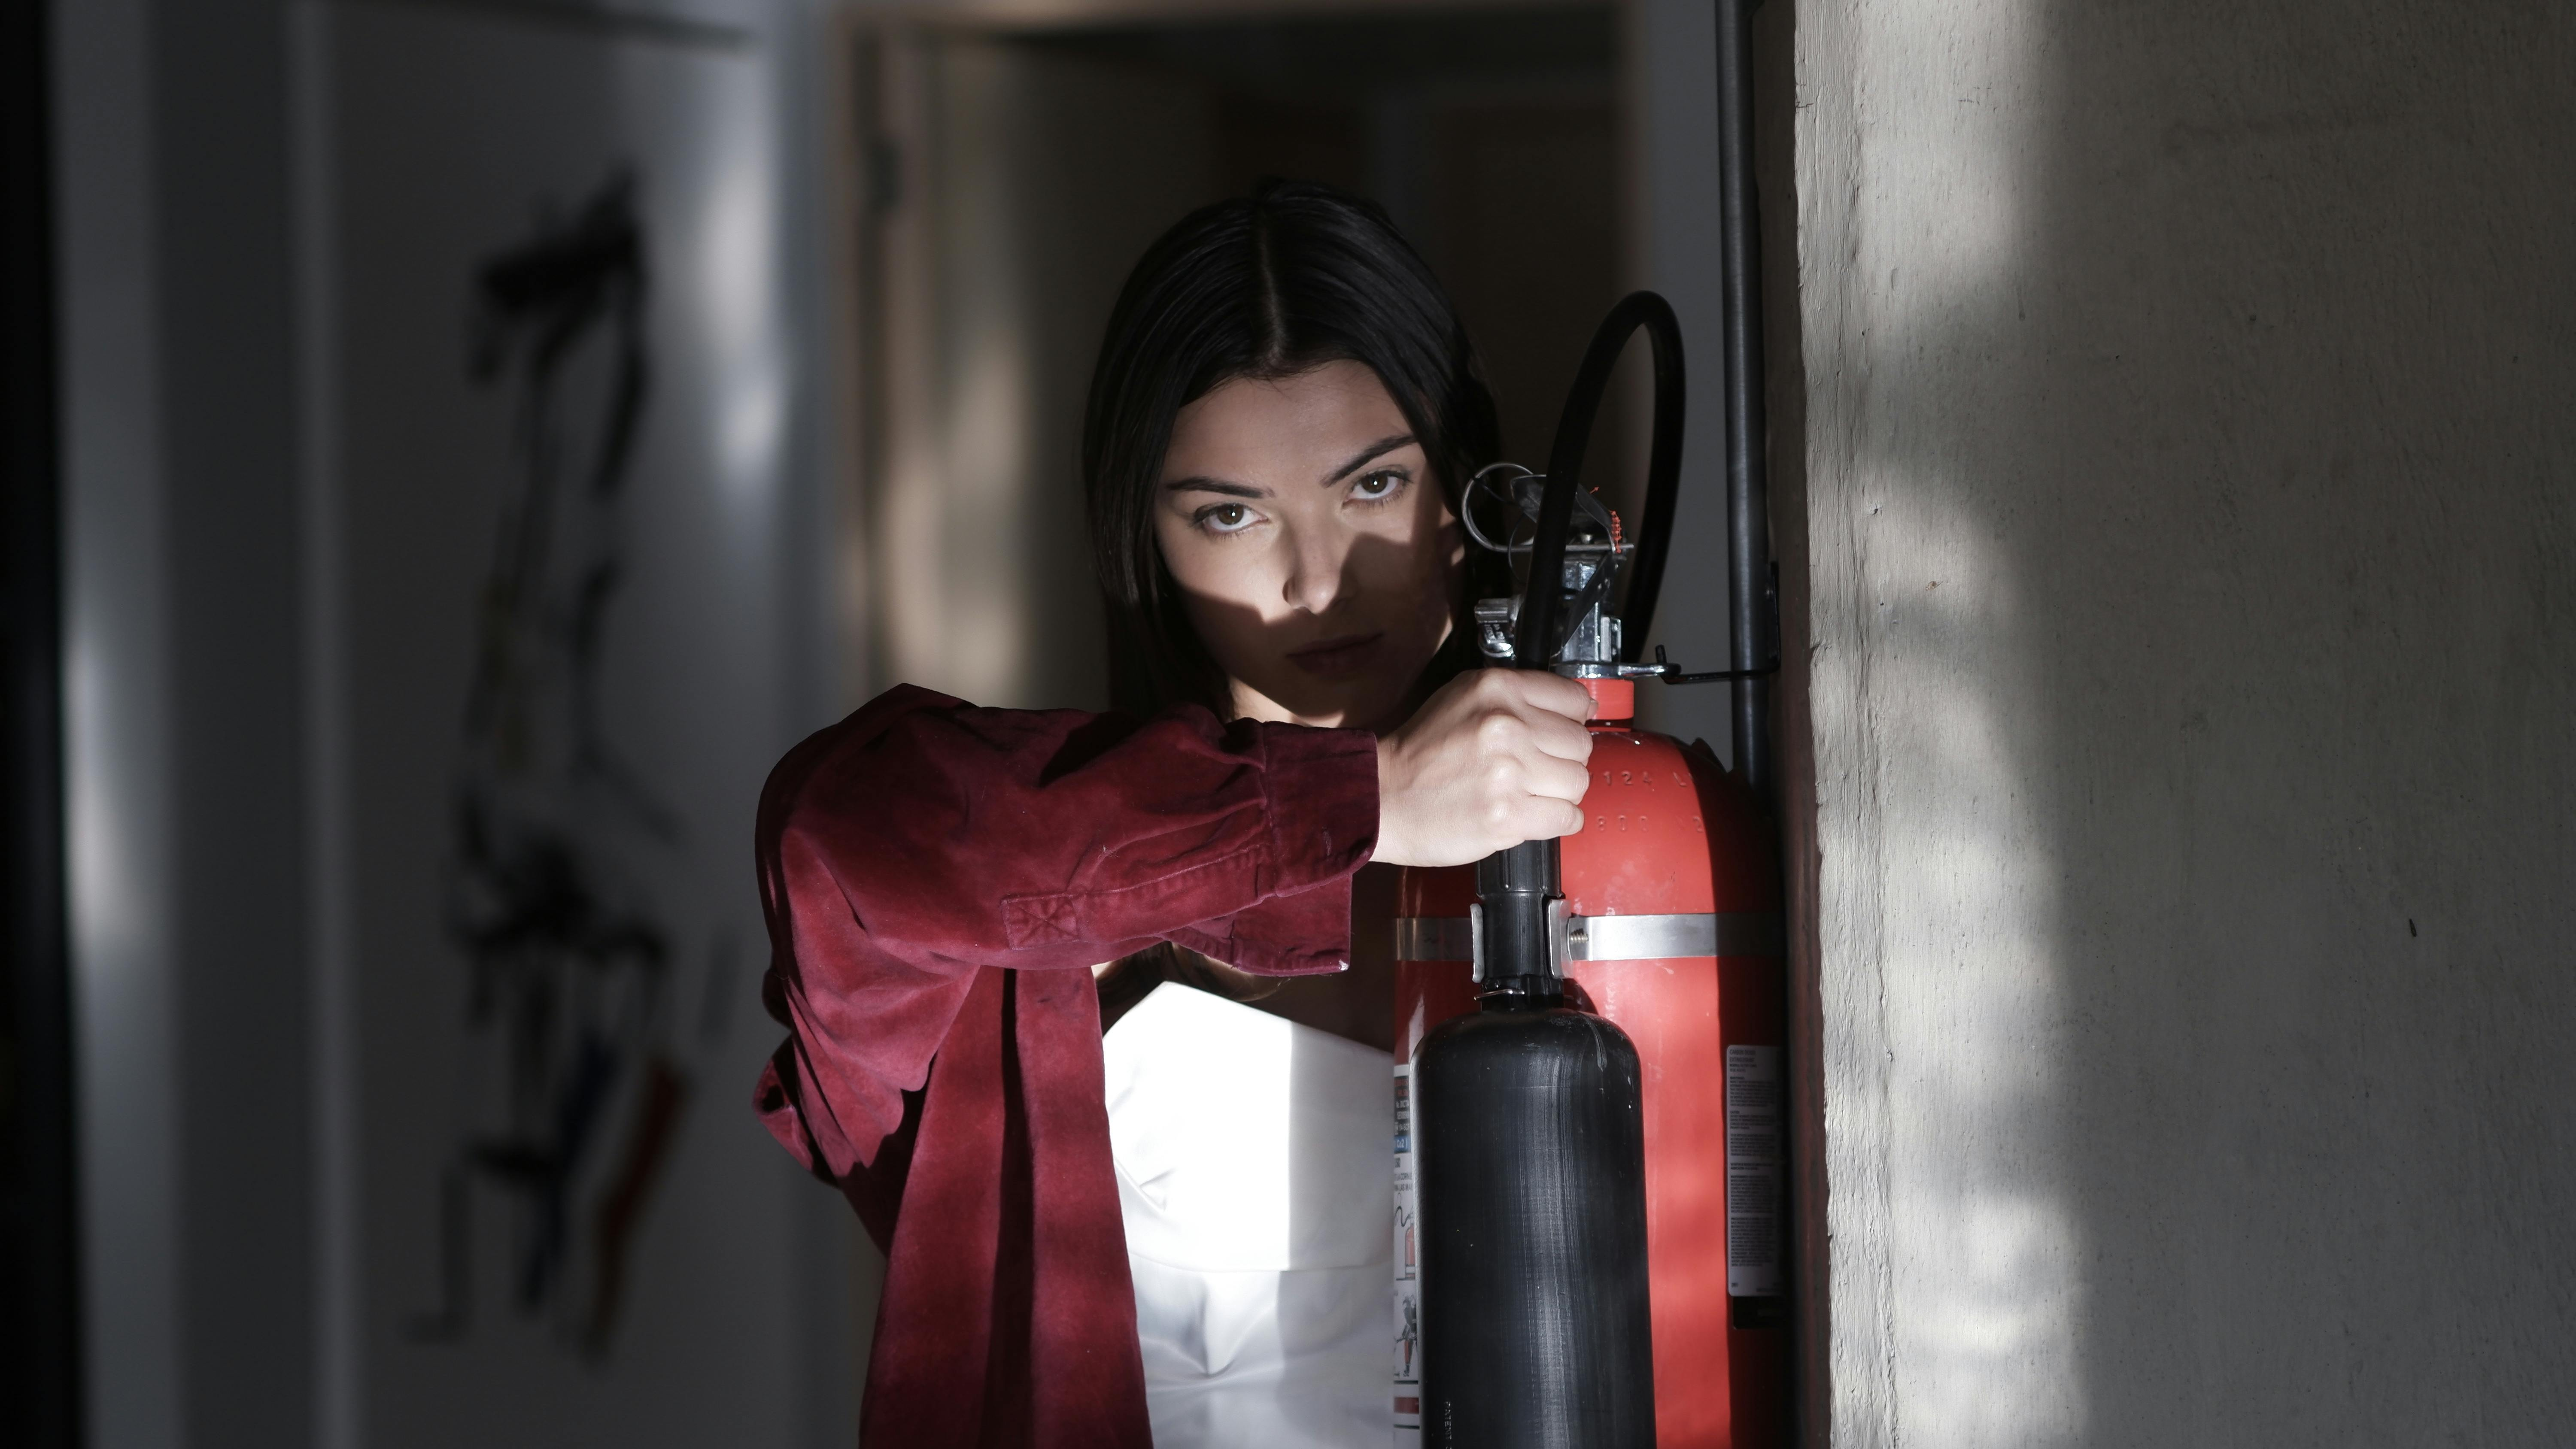extintor: (1385, 288, 1810, 1449)
